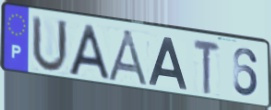6: (232, 47, 261, 100)
A: (105, 28, 152, 88), (66, 23, 112, 83), (146, 35, 189, 91)
T: (192, 37, 222, 97)
U: (30, 13, 70, 75)
